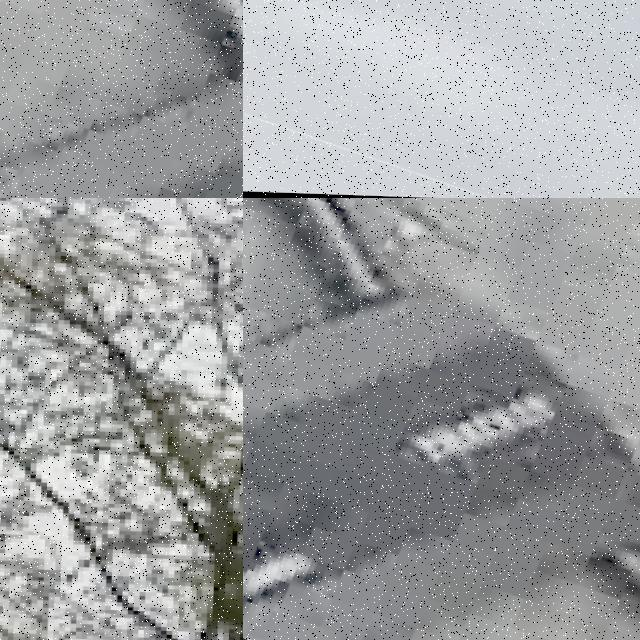0: (243, 198, 640, 640), (0, 0, 243, 198)
drone: (243, 0, 640, 198)
